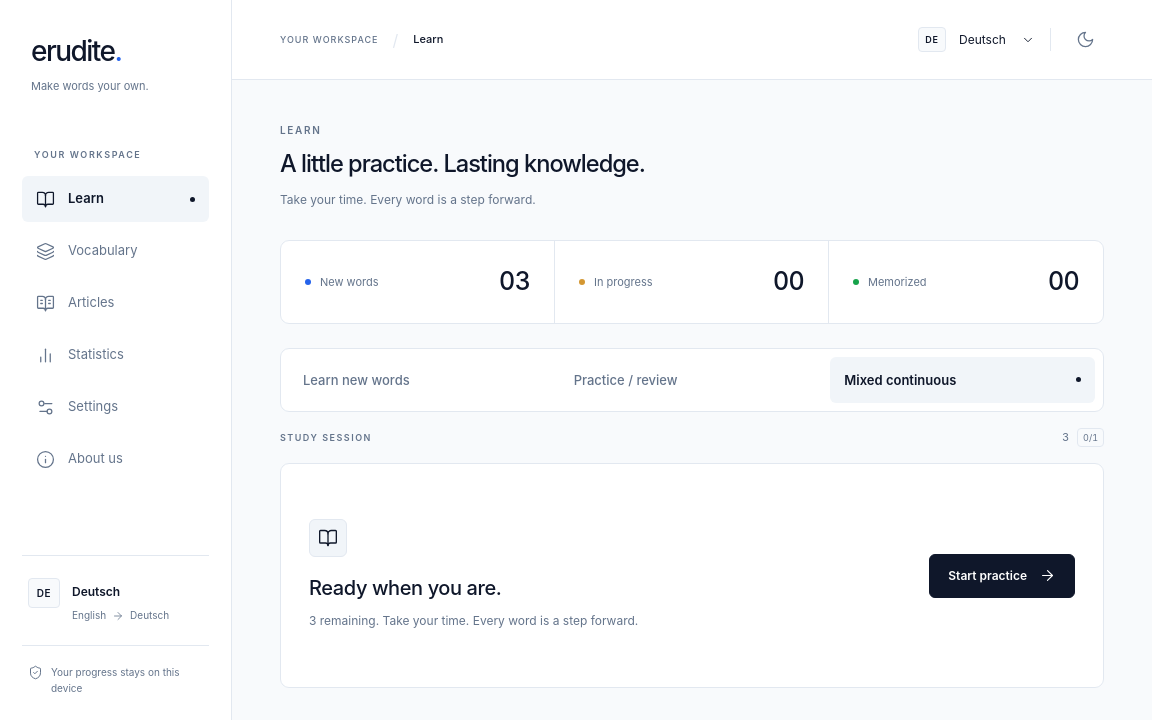
daily word goal › does not count Repeat but counts a committed manual mastery
Click the button "Start practice".
click(1002, 576)  # box [929, 554, 1075, 598]
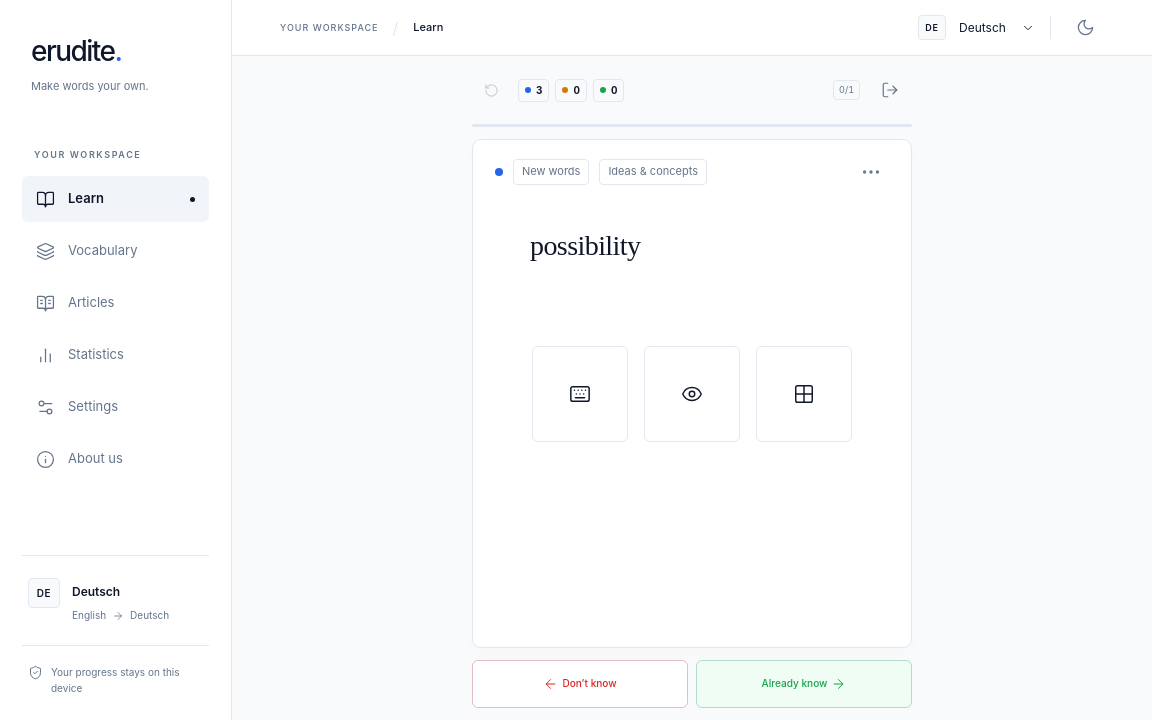
Click the button "Don’t know".
click(580, 684)  # box [472, 660, 688, 708]
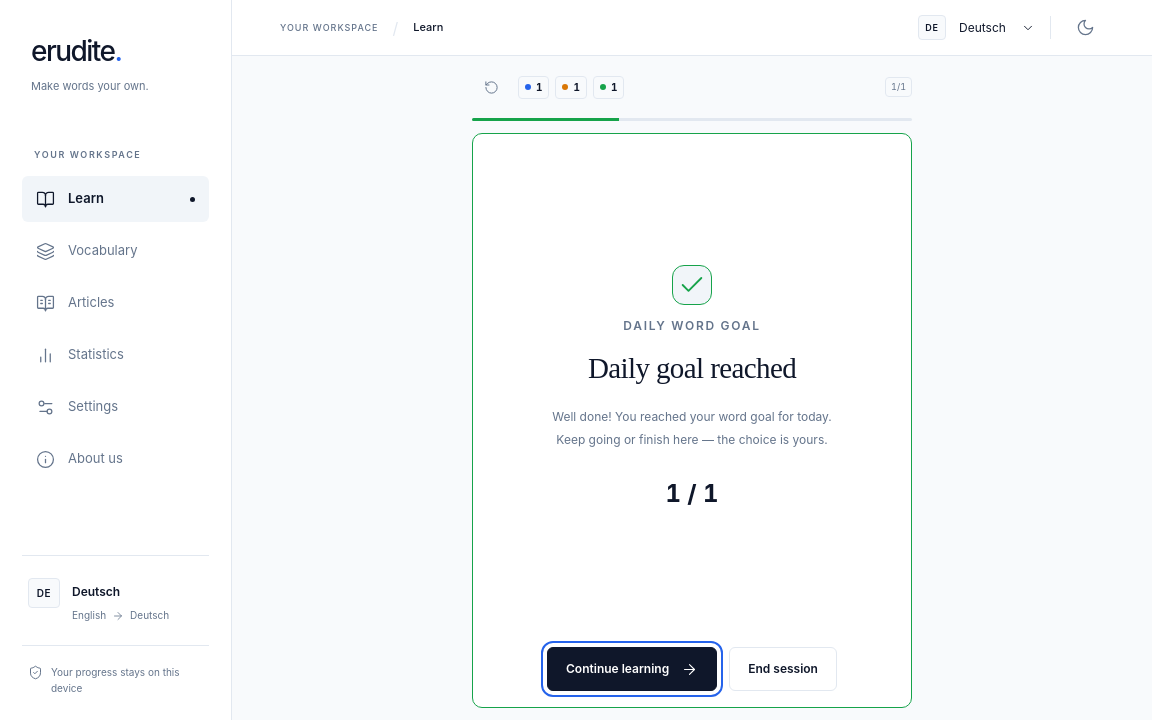
Expected: the text "Daily goal reached" is shown, [588, 347, 796, 391]
